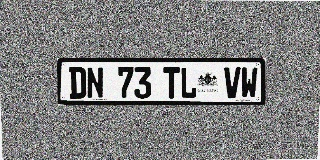3: (134, 67, 151, 99)
7: (117, 67, 134, 99)
D: (69, 67, 86, 99)
L: (180, 67, 197, 98)
N: (86, 67, 104, 99)
T: (163, 67, 180, 99)
V: (224, 67, 241, 98)
W: (241, 67, 258, 98)
